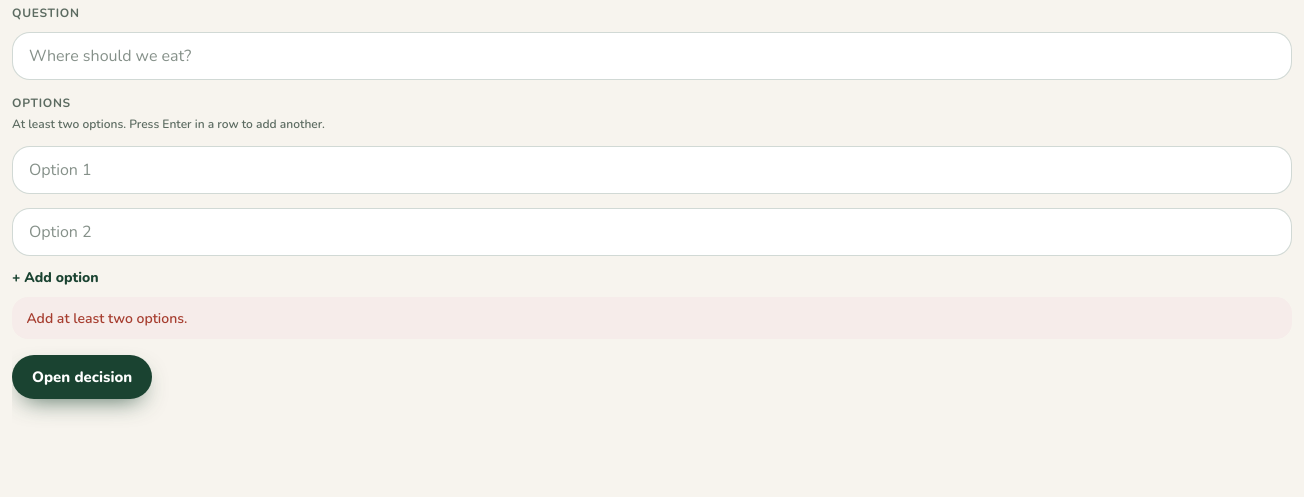
DecisionCreateForm › starts with two option rows and can add a third
Check: the field labelled "Option 1" is shown, box [12,146,1292,194]
Check: the field labelled "Option 2" is shown, box [12,208,1292,256]
Click the button "+ Add option" at (55, 278), box [12,268,99,288]
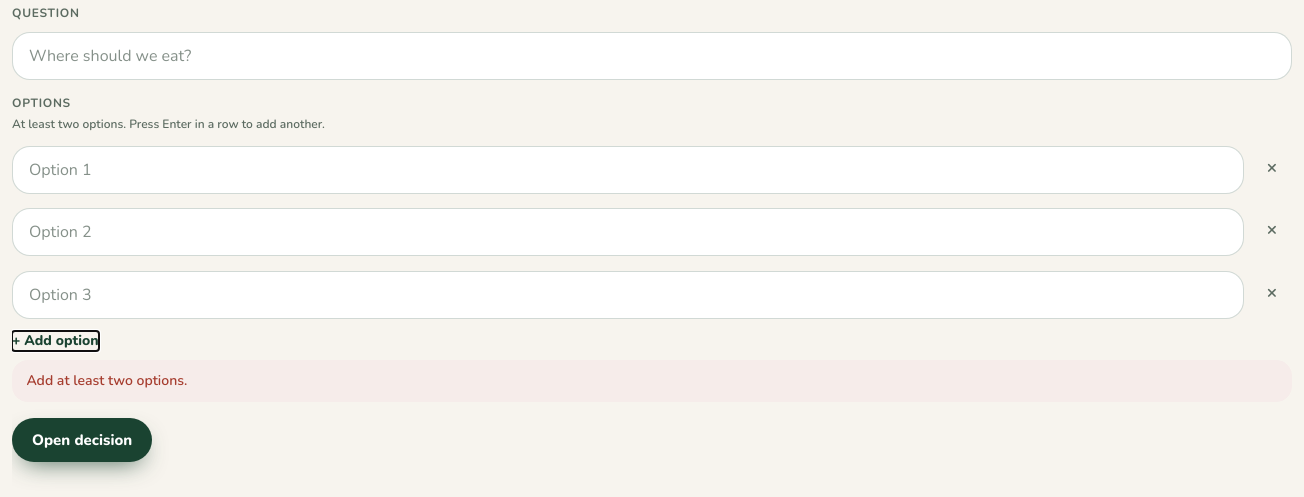
Check: the field labelled "Option 3" is shown, box [12,271,1244,319]
